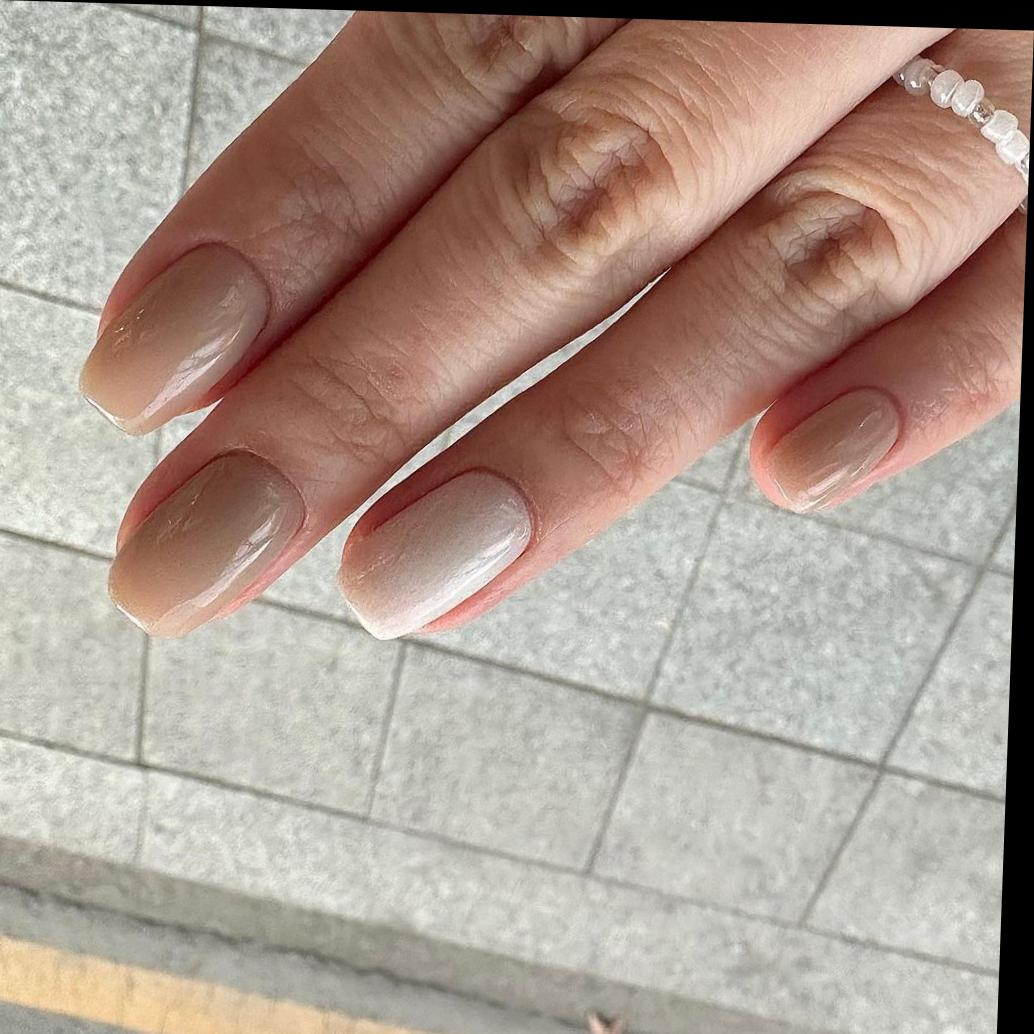nail: (105, 447, 311, 646), (77, 239, 276, 442), (336, 464, 540, 648), (758, 383, 907, 518)
